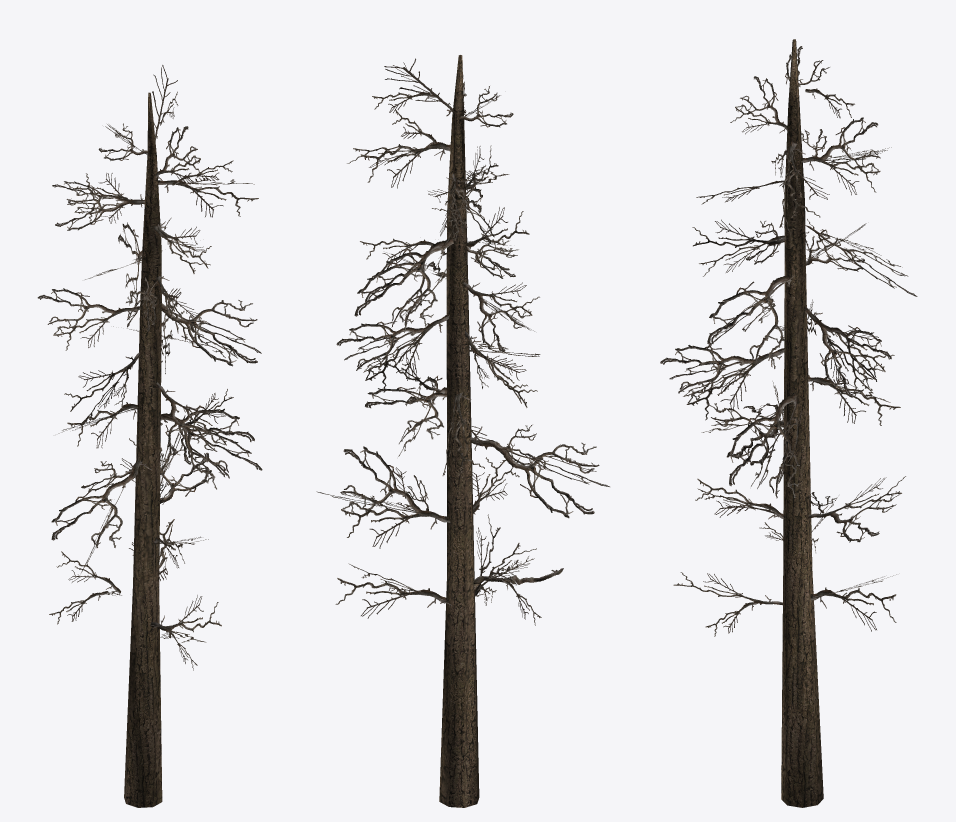
File: Vegetation_Deadtree01.glb
3 renders of one model, left to right at view 1: azimuth 30°, elevation 25°; view 2: azimuth 150°, elevation 25°; view 3: azimuth 270°, elevation 25°, orthographic. The views are drawn at different scales.
Visible parts, largest first — view 1: xiutz_deadtree01; view 2: xiutz_deadtree01; view 3: xiutz_deadtree01.
Part boxes in pixels (left/top/right/bottom): xiutz_deadtree01: left=37, top=65, right=262, bottom=807; xiutz_deadtree01: left=316, top=55, right=609, bottom=807; xiutz_deadtree01: left=660, top=39, right=917, bottom=807.
Size of the model in its own units: 9.08 by 25.82 by 8.41.
Materials: 1 (1 with a texture image).
